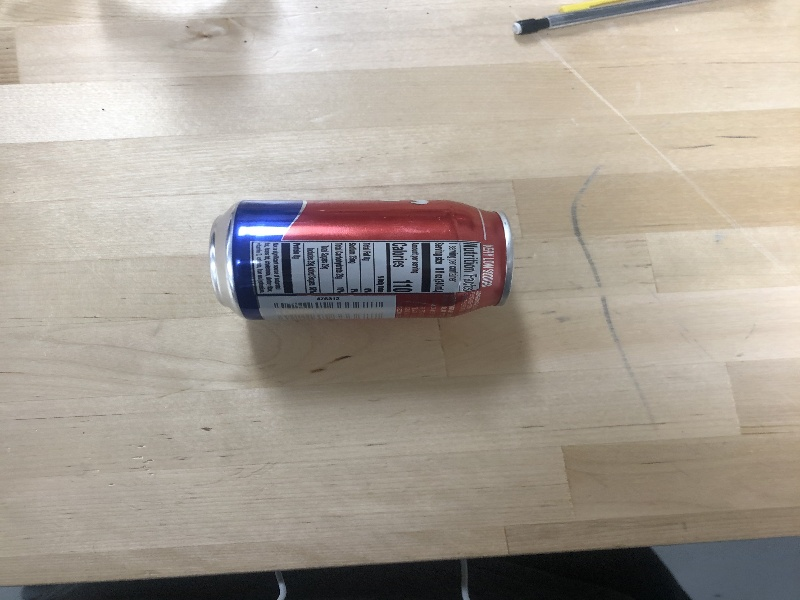metal: (205, 192, 518, 323)
